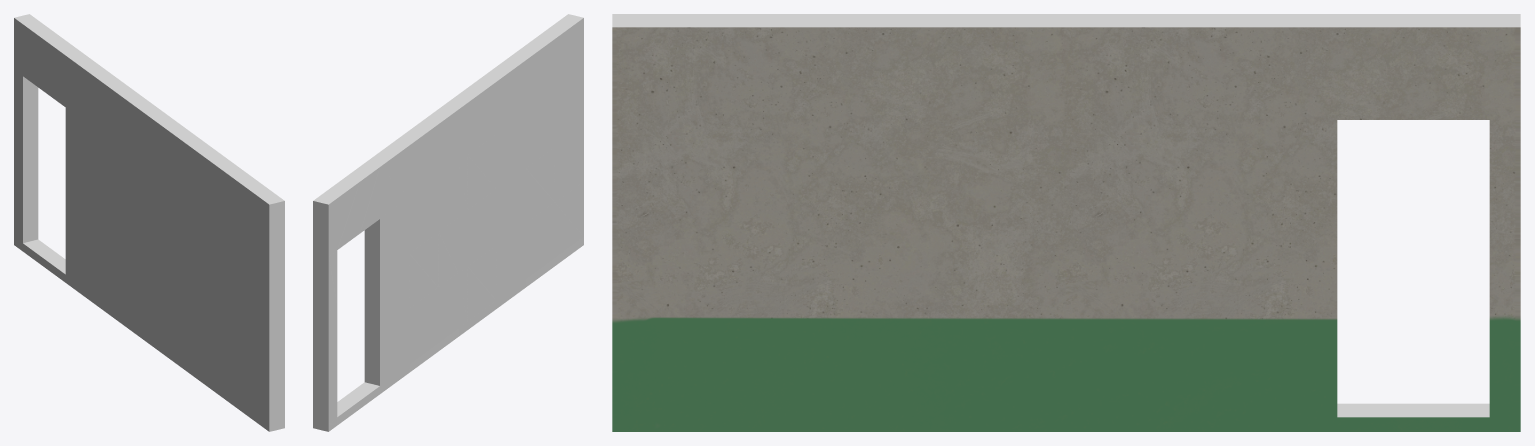
The model's file is SM_Wall_Thick_570cm_Doorway01_VP_SplitMaterials.FBX.
3 views of the same model, side by side, from view 1: azimuth 30°, elevation 25°; view 2: azimuth 150°, elevation 25°; view 3: azimuth 270°, elevation 25° (orthographic). The views are drawn at different scales.
Parts seen in each view (by area): view 1: Plane.424; view 2: Plane.424; view 3: Plane.424.
Part boxes in pixels (x1,y1,x2,y2): Plane.424: (14, 14, 284, 431); Plane.424: (313, 14, 583, 431); Plane.424: (612, 14, 1520, 431).
Bounding box in the file's own units: 20 × 280 × 570.
